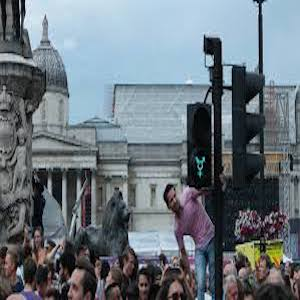green: (191, 154, 210, 180)
